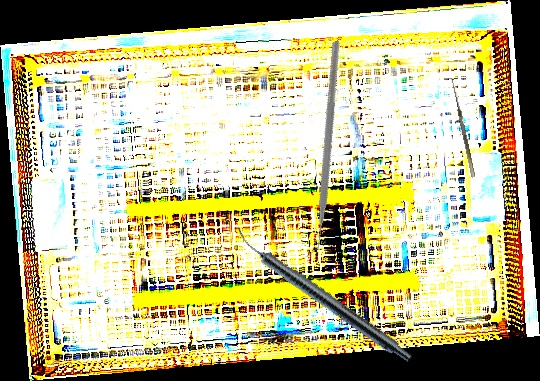Chopper: (221, 40, 420, 259)
Handpiece: (228, 225, 417, 366)
Hook Surgical: (445, 77, 476, 179)
